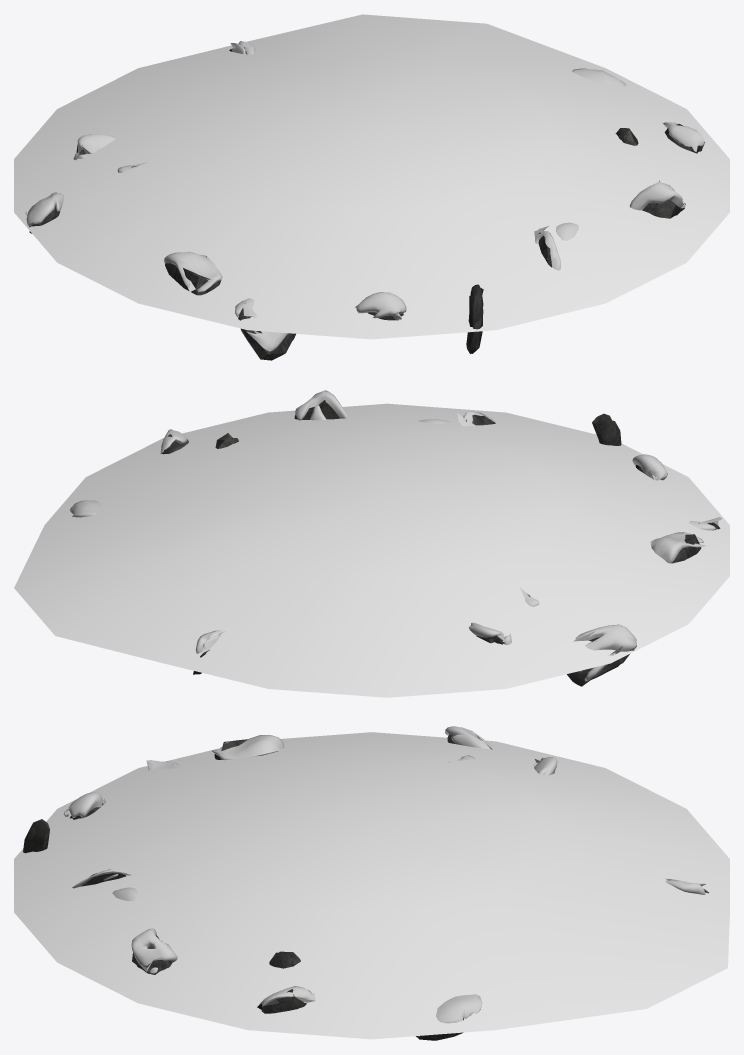
The model's file is Stones.fbx.
3 renders of one model, top to bottom at view 1: azimuth 30°, elevation 25°; view 2: azimuth 150°, elevation 25°; view 3: azimuth 270°, elevation 25°, orthographic. The views are drawn at different scales.
Parts seen in each view (by area): view 1: Stones_col, snow, Stones; view 2: Stones_col, snow, Stones; view 3: Stones_col, snow, Stones.
Boxes of the visible parts, <box> form: Stones_col: <box>14,14,729,339</box>; snow: <box>25,41,704,351</box>; Stones: <box>29,49,704,360</box>; Stones_col: <box>14,403,729,697</box>; snow: <box>70,390,721,681</box>; Stones: <box>70,400,720,686</box>; Stones_col: <box>14,732,729,1039</box>; snow: <box>63,726,707,1036</box>; Stones: <box>23,734,708,1040</box>.
Size of the model in its own units: 186 by 28.13 by 183.
